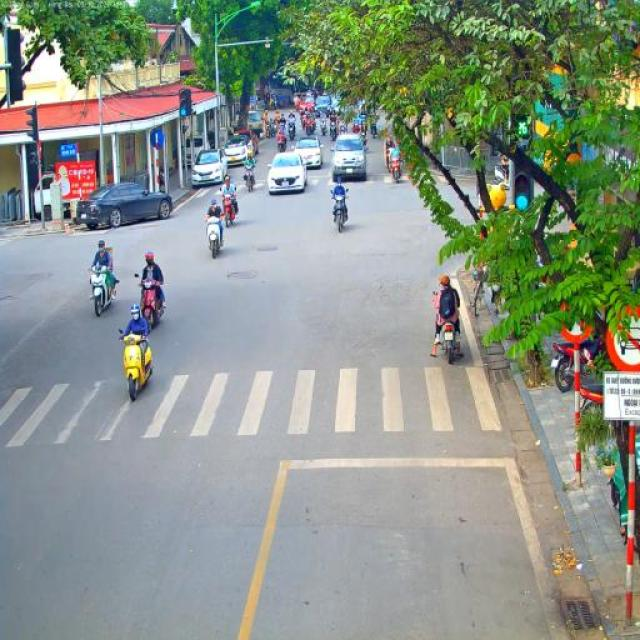bus: (532, 64, 640, 184)
car: (76, 181, 175, 229), (267, 150, 308, 196), (331, 132, 368, 182), (191, 148, 229, 187), (222, 135, 254, 169), (294, 135, 324, 170), (232, 129, 258, 155), (314, 94, 335, 118), (299, 96, 315, 112)
motorcycle: (550, 333, 600, 393), (118, 329, 154, 401), (433, 290, 461, 364), (134, 272, 166, 332), (88, 265, 120, 317), (330, 188, 350, 232), (204, 216, 224, 258), (580, 375, 604, 407), (220, 187, 238, 228), (388, 148, 404, 183), (493, 162, 512, 190), (243, 166, 257, 193), (276, 132, 289, 153), (287, 120, 297, 141), (304, 115, 314, 136), (320, 116, 330, 136), (358, 128, 368, 148), (328, 123, 338, 141), (369, 120, 378, 140), (263, 120, 273, 136), (352, 120, 361, 136), (360, 114, 368, 130), (278, 122, 287, 136), (300, 114, 306, 130), (274, 120, 280, 134), (338, 126, 347, 135)
truck: (33, 168, 77, 222), (239, 110, 263, 138), (185, 134, 203, 170)
